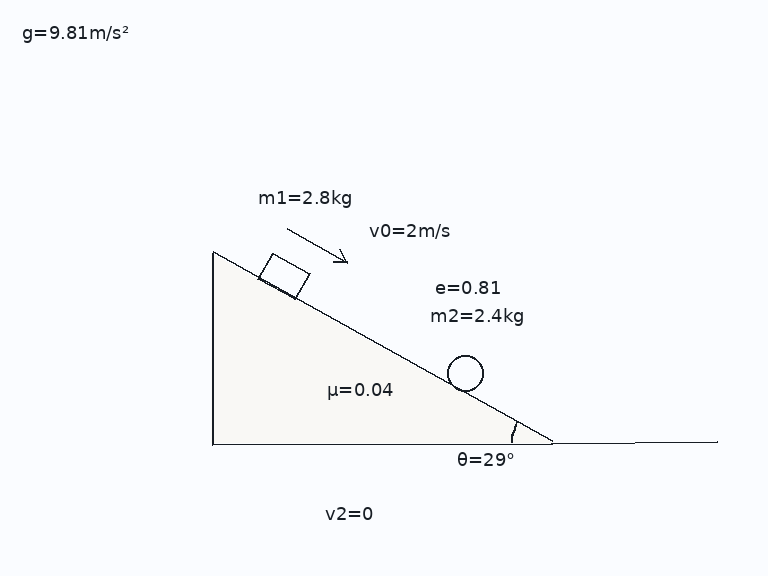ball: (445, 353, 485, 393)
block: (256, 250, 311, 301)
ramp: (210, 251, 554, 444)
